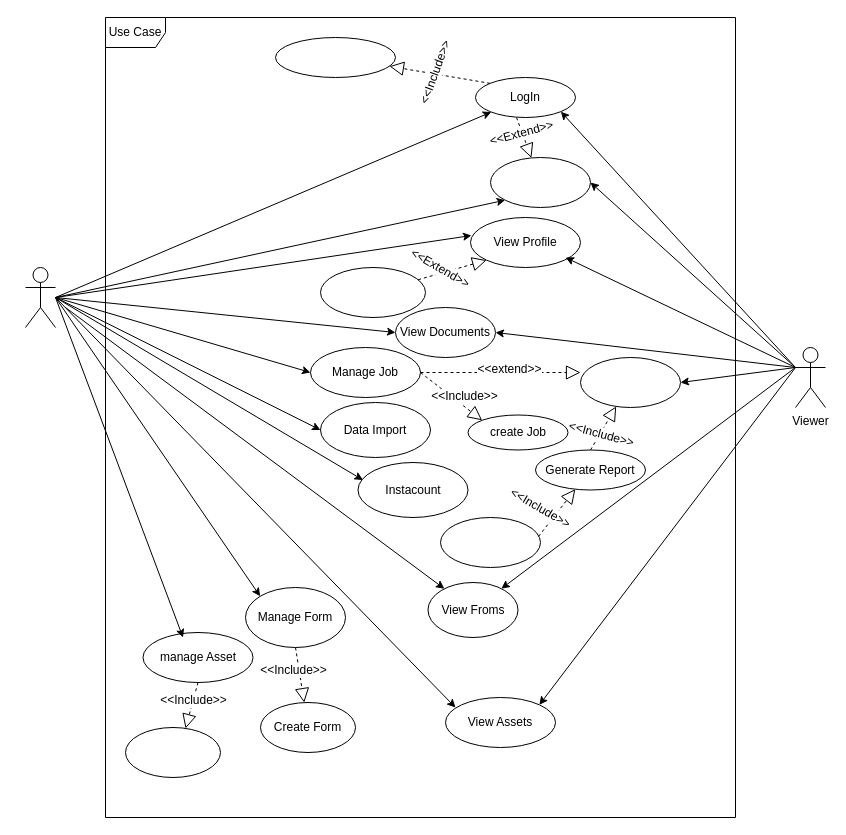
Image size: 846x835. Some labels were removed from this diagram. The shapes that lost their labels are listed below. From the top down, each one's box as (x1, y1, x2, y2) in pixels, then its label:
(274, 36, 396, 78): Validate User
(490, 156, 590, 208): Registration
(24, 266, 56, 328): Activator
(320, 266, 426, 318): Edit Profile
(580, 356, 680, 408): View Job
(440, 516, 540, 568): Download report
(124, 726, 220, 778): Create Asset
